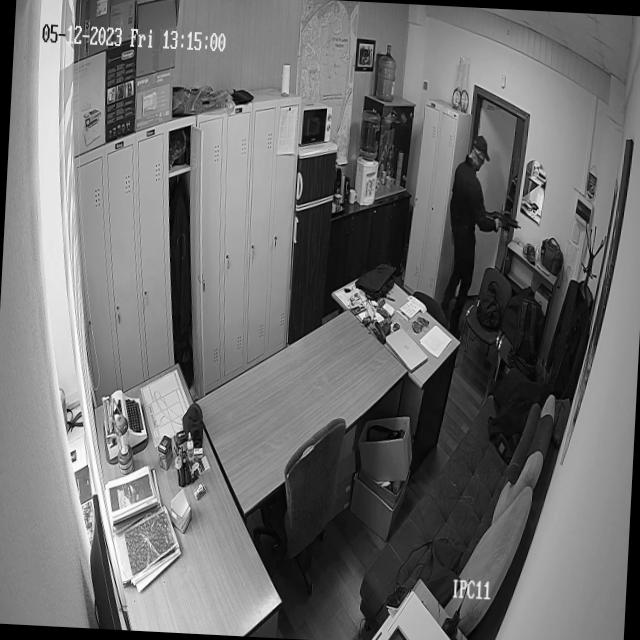gun: (484, 207, 524, 236)
person with a gun: (447, 126, 523, 377)
